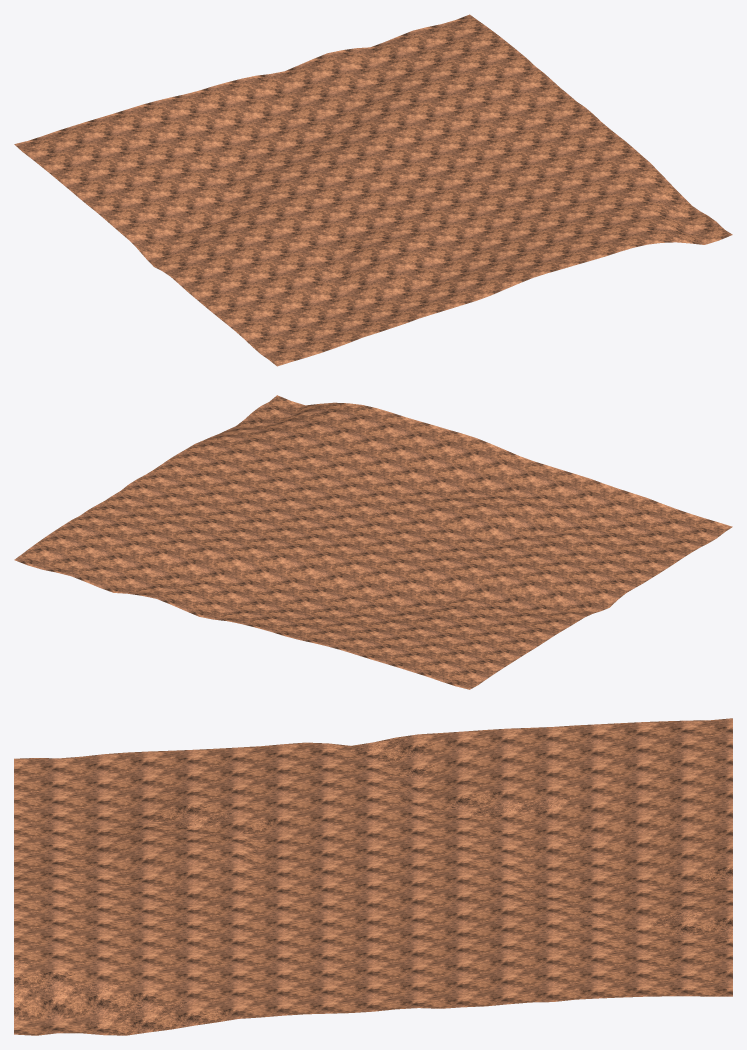
Rendered from terrain_06_10.dae.
The picture shows the model from 3 angles, top to bottom: view 1: azimuth 30°, elevation 25°; view 2: azimuth 150°, elevation 25°; view 3: azimuth 270°, elevation 25°; orthographic projection. The views are drawn at different scales.
Visible parts, largest first — view 1: terrain_06_10-node; view 2: terrain_06_10-node; view 3: terrain_06_10-node.
Part boxes in pixels (x1=…): terrain_06_10-node: x1=14, y1=14, x2=732, y2=366; terrain_06_10-node: x1=14, y1=395, x2=732, y2=689; terrain_06_10-node: x1=14, y1=718, x2=732, y2=1035.
Size of the model in its own units: 128 by 128 by 13.01.
1 material, 1 textured.
